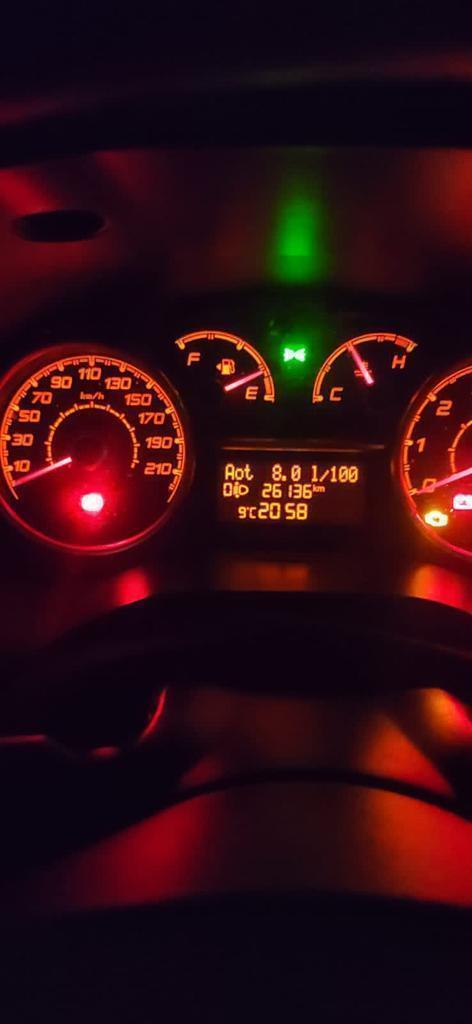,: (281, 475, 286, 481)
0: (268, 501, 281, 519), (290, 464, 301, 481), (348, 465, 358, 483), (338, 465, 348, 483), (222, 482, 232, 497)
1: (329, 465, 337, 482), (287, 484, 293, 498)
2: (257, 501, 268, 519), (261, 483, 271, 498)
3: (293, 483, 301, 498)
5: (284, 502, 295, 519)
6: (302, 484, 312, 499), (272, 483, 281, 498)
8: (296, 503, 308, 520), (271, 463, 281, 481)
9: (237, 506, 246, 518)
X: (224, 463, 235, 481), (243, 463, 254, 481), (318, 469, 329, 482), (234, 467, 244, 480), (311, 464, 318, 482), (248, 506, 257, 519), (317, 485, 325, 492), (312, 483, 318, 492)
odometer: (212, 457, 370, 527)
